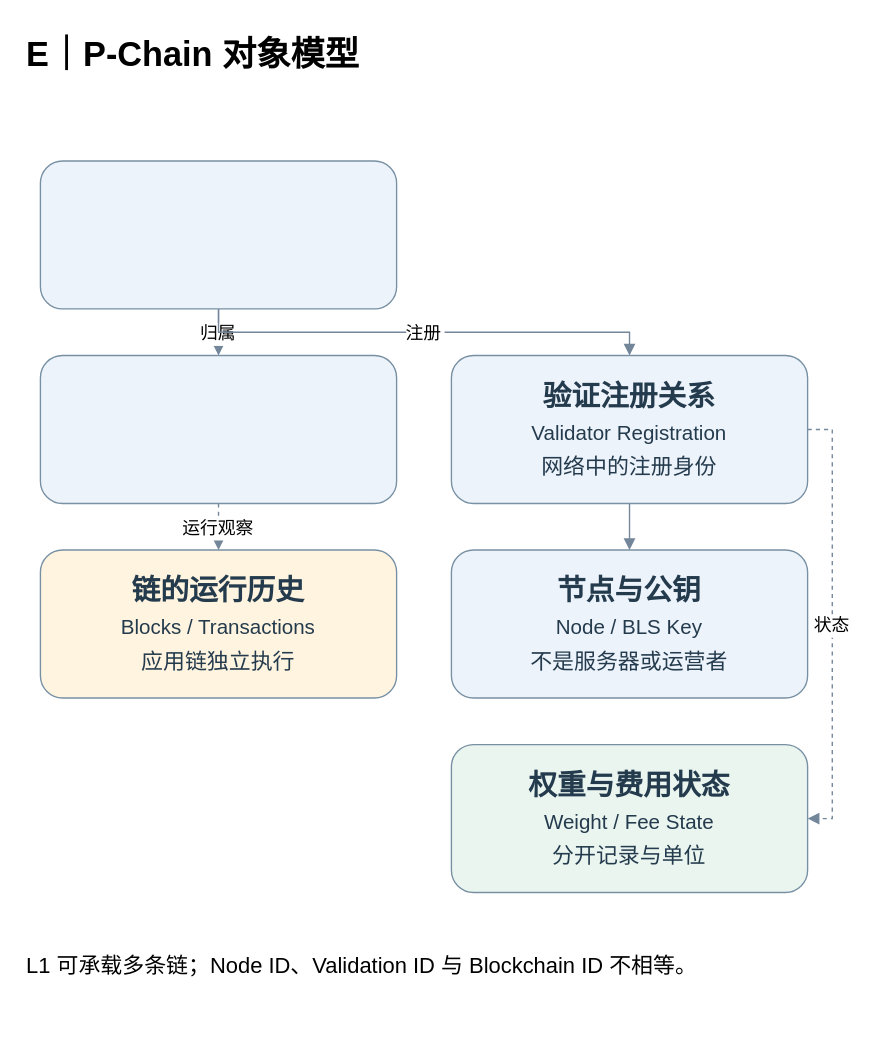
Image size: 874x1062. Some labels were removed from this diagram. The shapes that lost their labels are listed below. From the top down, each one's centre as x and y in pixels, then its label:
point (218, 234): 网络组织 Subnet / L1 平台身份与管理关系
point (218, 428): 区块链记录 Blockchain Record VM · Genesis
